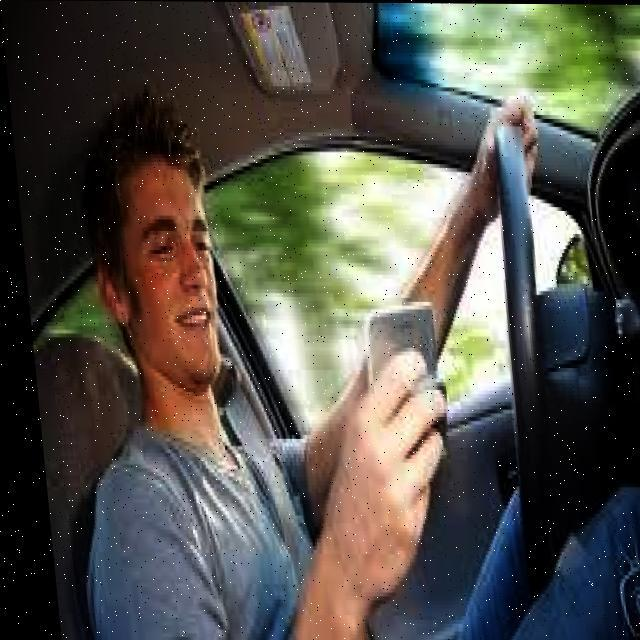seatbelt: (200, 382, 299, 640)
